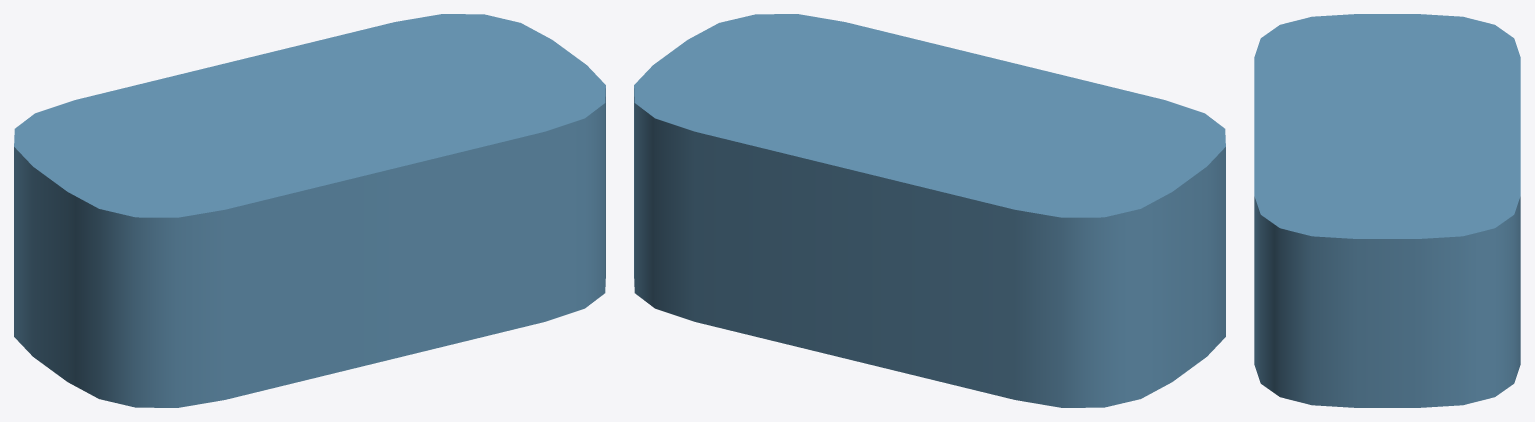
The model's file is Sponge_B.fbx.
3 renders of one model, left to right at view 1: azimuth 30°, elevation 25°; view 2: azimuth 150°, elevation 25°; view 3: azimuth 270°, elevation 25°, orthographic. The views are drawn at different scales.
Parts seen in each view (by area): view 1: Sponge_B; view 2: Sponge_B; view 3: Sponge_B.
Boxes of the visible parts, x1,y1,x2,y2 form: Sponge_B: (14,14,605,407); Sponge_B: (634,14,1225,407); Sponge_B: (1254,14,1520,407).
Size of the model in its own units: 20 by 7 by 10.
